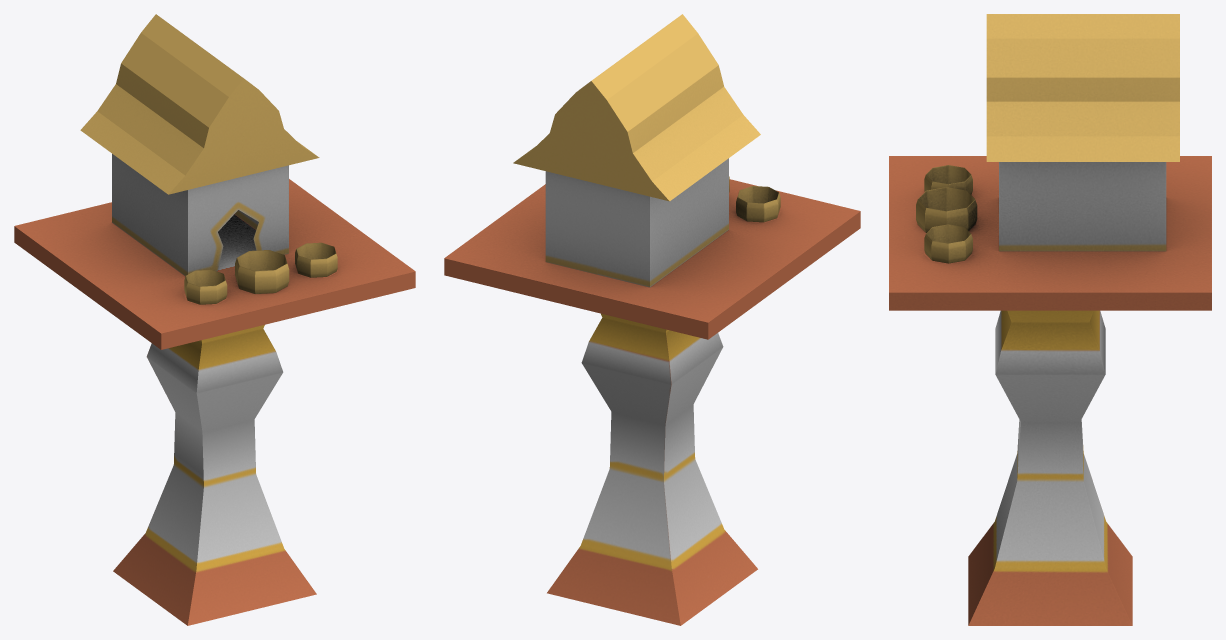
The model's file is Holy_Medium.fbx.
3 views of the same model, side by side, from view 1: azimuth 30°, elevation 25°; view 2: azimuth 150°, elevation 25°; view 3: azimuth 270°, elevation 25° (orthographic). The views are drawn at different scales.
Parts seen in each view (by area): view 1: Holy_Medium1; view 2: Holy_Medium1; view 3: Holy_Medium1.
Part boxes in pixels (x1=…): Holy_Medium1: x1=14, y1=14, x2=415, y2=625; Holy_Medium1: x1=444, y1=14, x2=860, y2=625; Holy_Medium1: x1=889, y1=14, x2=1211, y2=625.
Bounding box in the file's own units: 1.6 × 3.15 × 1.6.
